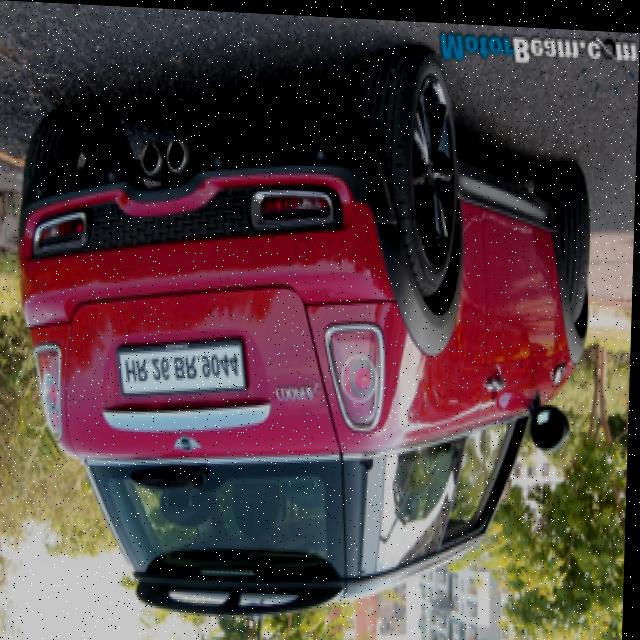plate: (118, 326, 253, 404)
